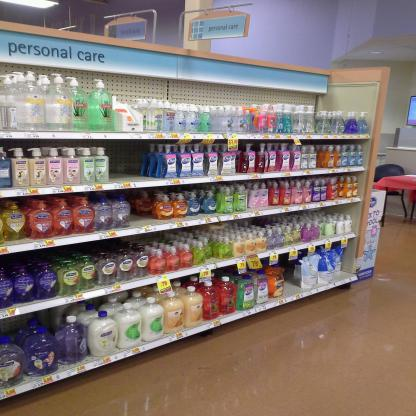Void: (110, 140, 149, 181), (286, 264, 296, 294), (128, 217, 149, 224), (337, 272, 351, 278)
